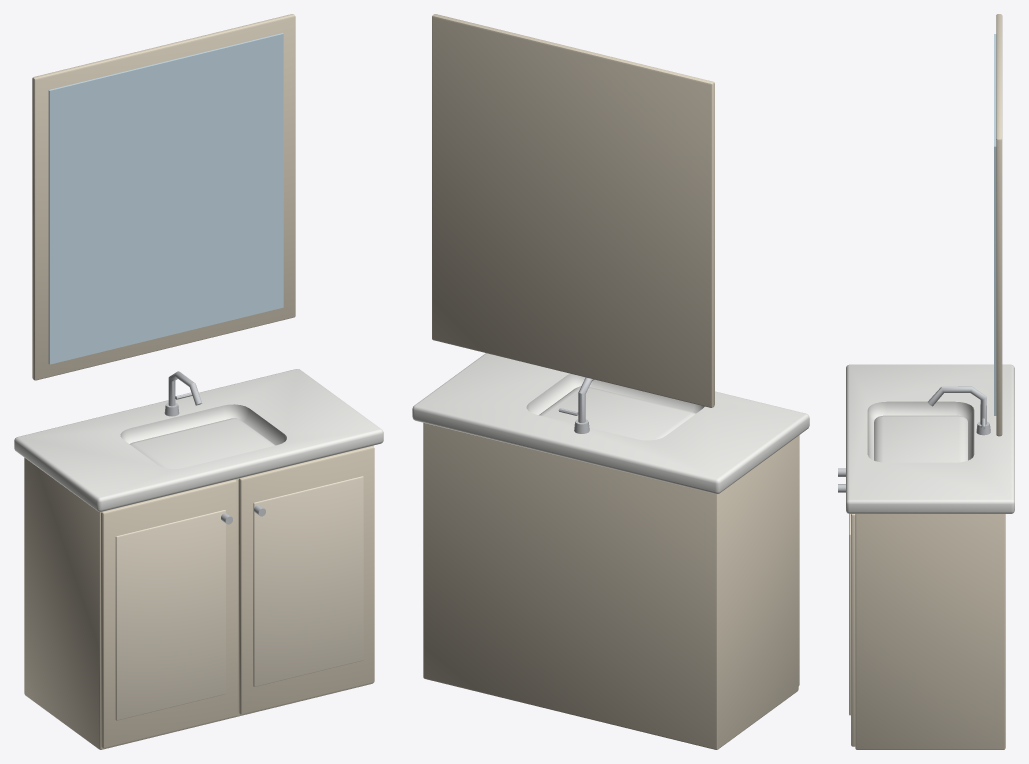
File: vanity.glb
3 views of the same model, side by side, from view 1: azimuth 30°, elevation 25°; view 2: azimuth 150°, elevation 25°; view 3: azimuth 270°, elevation 25° (orthographic). The views are drawn at different scales.
Parts seen in each view (by area): view 1: mirror, top, door_panel, door_panel.001, carcass, m_frame, door.001, door, bowl; view 2: carcass, m_frame, top, bowl; view 3: carcass, top, bowl, m_frame, door.001, mirror, f_spout, door_panel.001.
Part boxes in pixels (x1=…): mirror: x1=48, y1=33, x2=283, y2=364; top: x1=14, y1=369, x2=383, y2=511; door_panel: x1=115, y1=510, x2=225, y2=720; door_panel.001: x1=253, y1=476, x2=363, y2=686; carcass: x1=24, y1=445, x2=373, y2=749; m_frame: x1=32, y1=14, x2=295, y2=380; door.001: x1=238, y1=446, x2=374, y2=714; door: x1=101, y1=479, x2=236, y2=748; bowl: x1=129, y1=418, x2=275, y2=468; carcass: x1=423, y1=423, x2=798, y2=749; m_frame: x1=432, y1=14, x2=714, y2=407; top: x1=412, y1=353, x2=809, y2=494; bowl: x1=539, y1=386, x2=695, y2=440; carcass: x1=855, y1=514, x2=1005, y2=749; top: x1=846, y1=364, x2=1014, y2=513; bowl: x1=874, y1=415, x2=967, y2=462; m_frame: x1=996, y1=14, x2=1002, y2=436; door.001: x1=851, y1=514, x2=855, y2=746; mirror: x1=994, y1=34, x2=996, y2=415; f_spout: x1=928, y1=386, x2=986, y2=424; door_panel.001: x1=849, y1=514, x2=850, y2=715.
Size of the model in its own units: 1.04 by 2.14 by 0.565.
